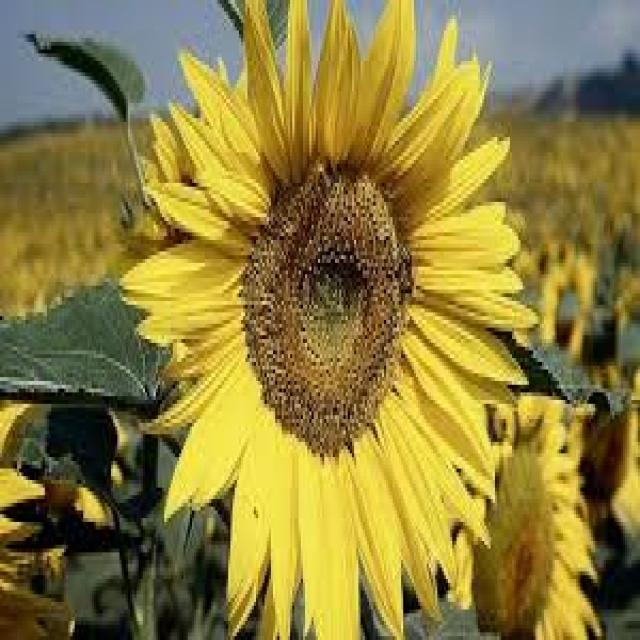sunflower: (114, 0, 548, 640), (469, 389, 611, 640), (0, 385, 85, 640), (565, 369, 640, 543), (555, 250, 596, 320), (539, 208, 573, 276), (548, 311, 585, 373), (528, 238, 558, 290)
